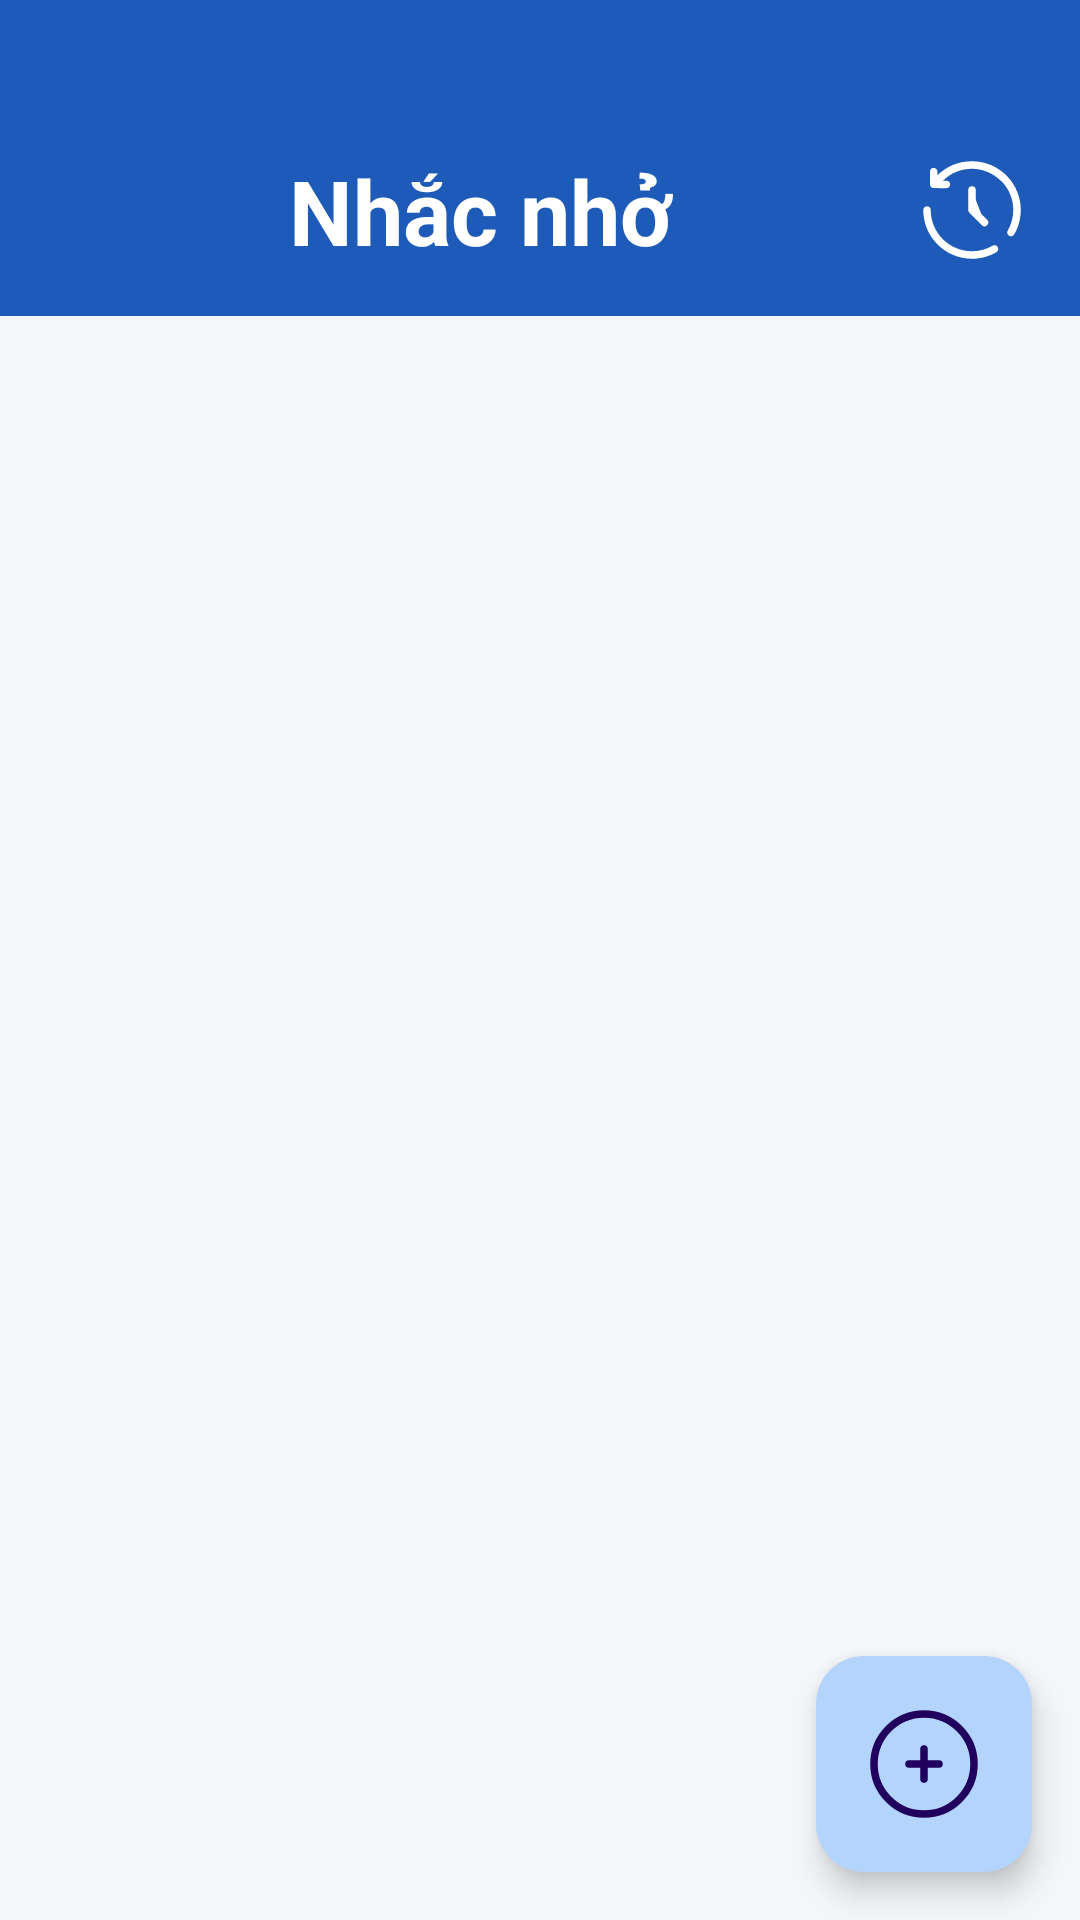

Icon bounding boxes for this 1080px x 1920px phone screenshot, format bbox(x1, y1, x2, y2):
Lịch sử: bbox(923, 161, 1021, 259)
